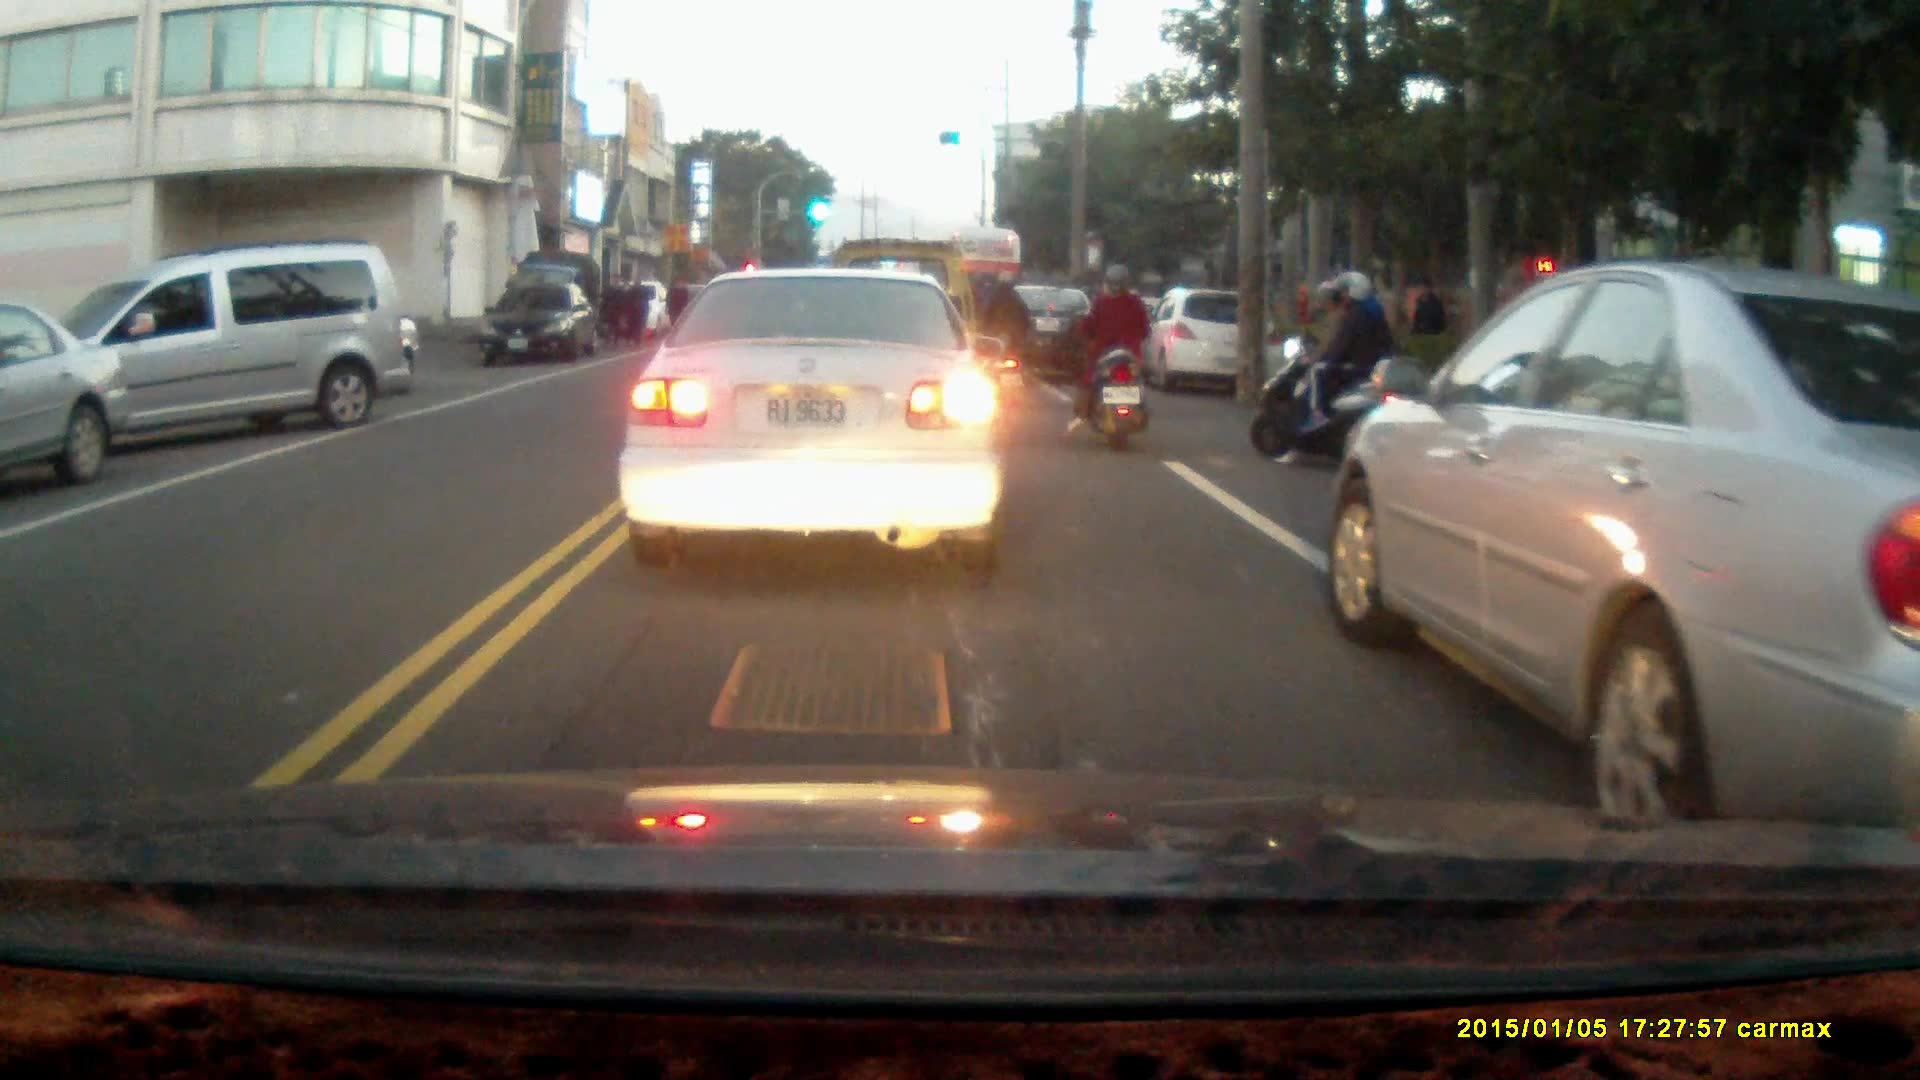pedestrian: (1408, 275, 1443, 364), (598, 272, 627, 352), (620, 272, 647, 351), (663, 273, 691, 342)
rider: (1249, 266, 1402, 467), (1057, 262, 1153, 449), (965, 270, 1030, 395)
vehicle: (1328, 256, 1920, 825), (627, 269, 1009, 582), (31, 247, 404, 461), (1, 301, 130, 487), (1140, 289, 1277, 398), (973, 286, 1112, 388), (486, 279, 605, 366)
